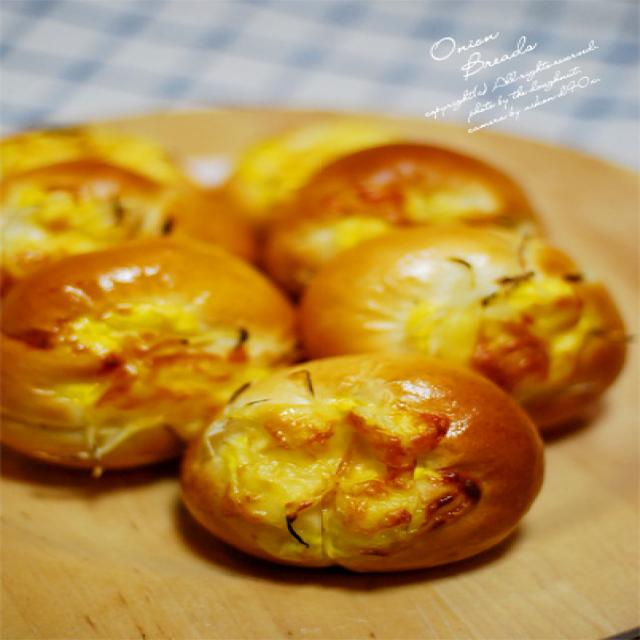三明治: (0, 128, 640, 595)
